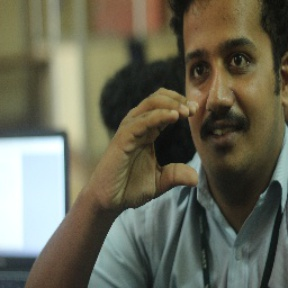C: (116, 77, 212, 201)
